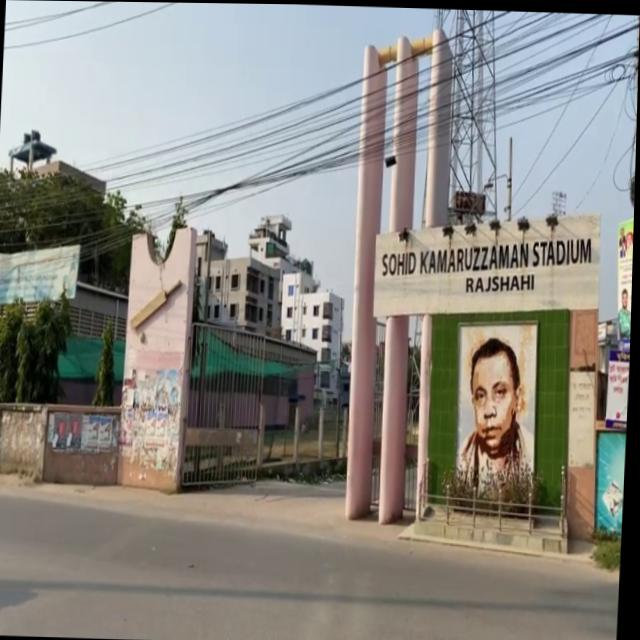Construction-barrier: (184, 431, 420, 494), (399, 512, 623, 571), (399, 500, 571, 554), (184, 447, 349, 492), (400, 529, 599, 562), (421, 491, 567, 528)
Garbage: (362, 203, 607, 553)
Garbage-bin: (458, 334, 538, 495), (617, 286, 634, 336)
Light-pole: (375, 32, 426, 522), (342, 42, 392, 519), (411, 25, 457, 520)
Traffic-light: (119, 223, 199, 491)
